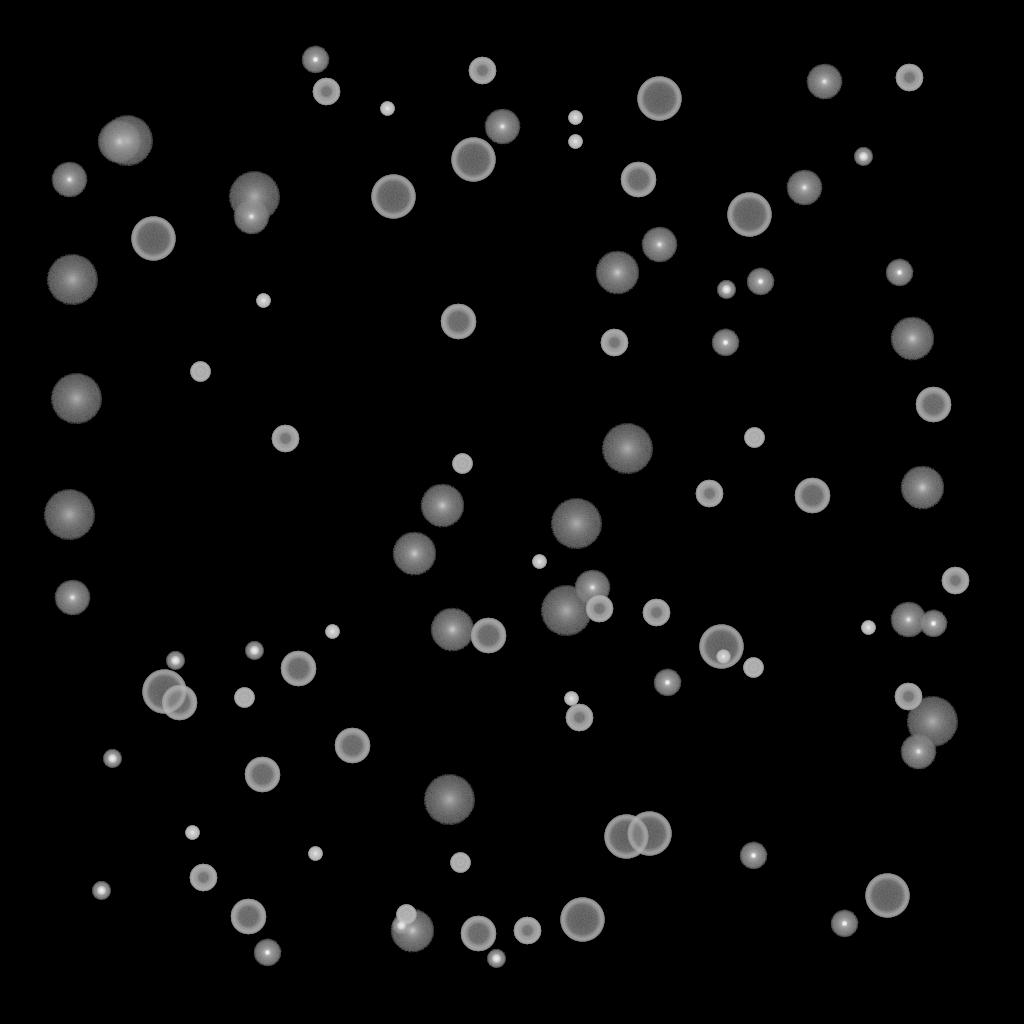depth:-10: (253, 939, 281, 967), (653, 669, 681, 697), (746, 268, 774, 296), (739, 842, 767, 870), (885, 259, 913, 287), (919, 610, 947, 638), (711, 329, 739, 357), (301, 46, 329, 74), (830, 910, 858, 938)
depth:-20: (717, 281, 735, 299), (103, 750, 121, 768), (245, 642, 263, 660), (166, 652, 184, 670), (487, 950, 505, 968), (854, 148, 872, 166), (92, 882, 110, 900), (392, 917, 410, 935)
depth:-30: (861, 621, 875, 635), (325, 625, 339, 639), (532, 555, 546, 569), (308, 847, 322, 861), (568, 111, 582, 125), (185, 826, 199, 840), (716, 650, 730, 664), (380, 102, 394, 116), (256, 294, 270, 308), (564, 692, 578, 706), (568, 135, 582, 149)
depth:-40: (234, 688, 254, 708), (744, 428, 764, 448), (743, 658, 763, 678), (452, 454, 472, 474), (450, 853, 470, 873), (190, 362, 210, 382), (396, 905, 416, 925)
depth:-50: (585, 595, 613, 623), (895, 64, 923, 92), (468, 57, 496, 85), (941, 567, 969, 595), (695, 480, 723, 508), (312, 78, 340, 106), (894, 683, 922, 711), (642, 599, 670, 627), (600, 329, 628, 357), (513, 917, 541, 945), (189, 864, 217, 892), (565, 704, 593, 732), (271, 425, 299, 453)
depth:-60: (915, 387, 951, 423), (334, 728, 370, 764), (280, 651, 316, 687), (230, 899, 266, 935), (620, 162, 656, 198), (244, 757, 280, 793), (460, 916, 496, 952), (794, 478, 830, 514), (161, 685, 197, 721), (440, 304, 476, 340), (470, 618, 506, 654)
depth:-70: (699, 625, 743, 669), (560, 898, 604, 942), (627, 812, 671, 856), (865, 874, 909, 918), (371, 175, 415, 219), (451, 138, 495, 182), (727, 193, 771, 237), (142, 670, 186, 714), (604, 815, 648, 859), (637, 77, 681, 121), (131, 217, 175, 261)
depth:0: (806, 64, 842, 100), (641, 227, 677, 263), (786, 170, 822, 206), (890, 602, 926, 638), (51, 162, 87, 198), (574, 570, 610, 606), (233, 199, 269, 235), (54, 580, 90, 616), (900, 734, 936, 770), (484, 109, 520, 145)
depth:10: (392, 532, 436, 576), (595, 251, 639, 295), (97, 120, 141, 164), (420, 484, 464, 528), (390, 909, 434, 953), (890, 317, 934, 361), (430, 608, 474, 652), (900, 466, 944, 510)
depth:20: (228, 172, 280, 222), (906, 697, 958, 747), (423, 775, 475, 825), (50, 374, 102, 424), (46, 255, 98, 305), (43, 490, 95, 540), (101, 116, 153, 166), (550, 499, 602, 549), (540, 586, 592, 636), (601, 424, 653, 474)
